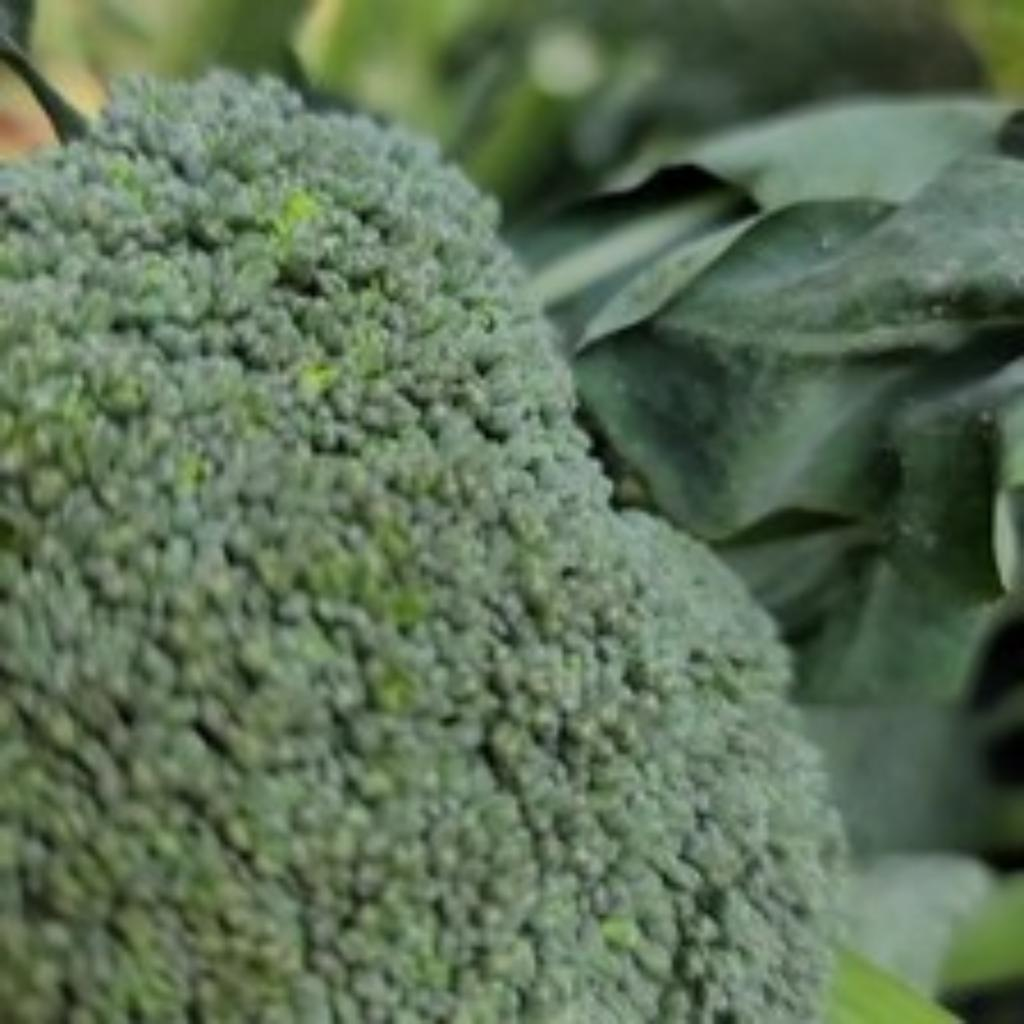Broccoli: (0, 74, 842, 1023), (0, 74, 842, 1023)
